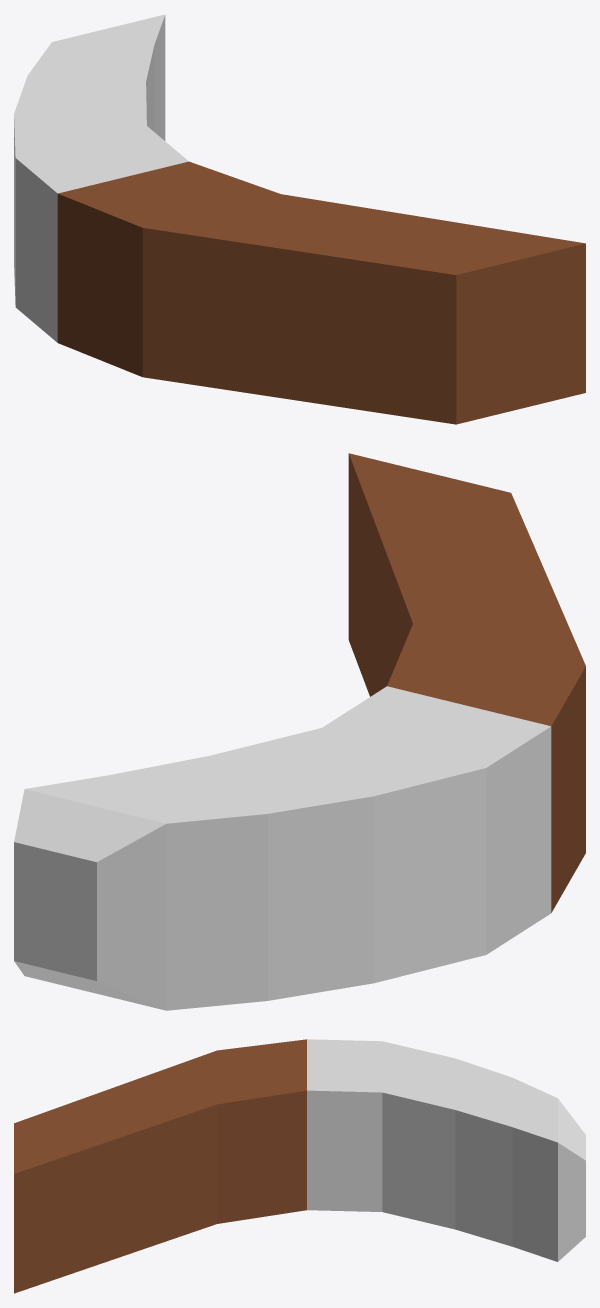
File: tail.glb
3 renders of one model, top to bottom at view 1: azimuth 30°, elevation 25°; view 2: azimuth 150°, elevation 25°; view 3: azimuth 270°, elevation 25°, orthographic. The views are drawn at different scales.
Visible parts, largest first — view 1: Cube; view 2: Cube; view 3: Cube.
Part boxes in pixels (bbox=[...]): Cube: bbox=[14, 14, 585, 424]; Cube: bbox=[14, 453, 585, 1010]; Cube: bbox=[14, 1039, 585, 1293].
Size of the model in its own units: 1.07 by 0.4421 by 1.92.
